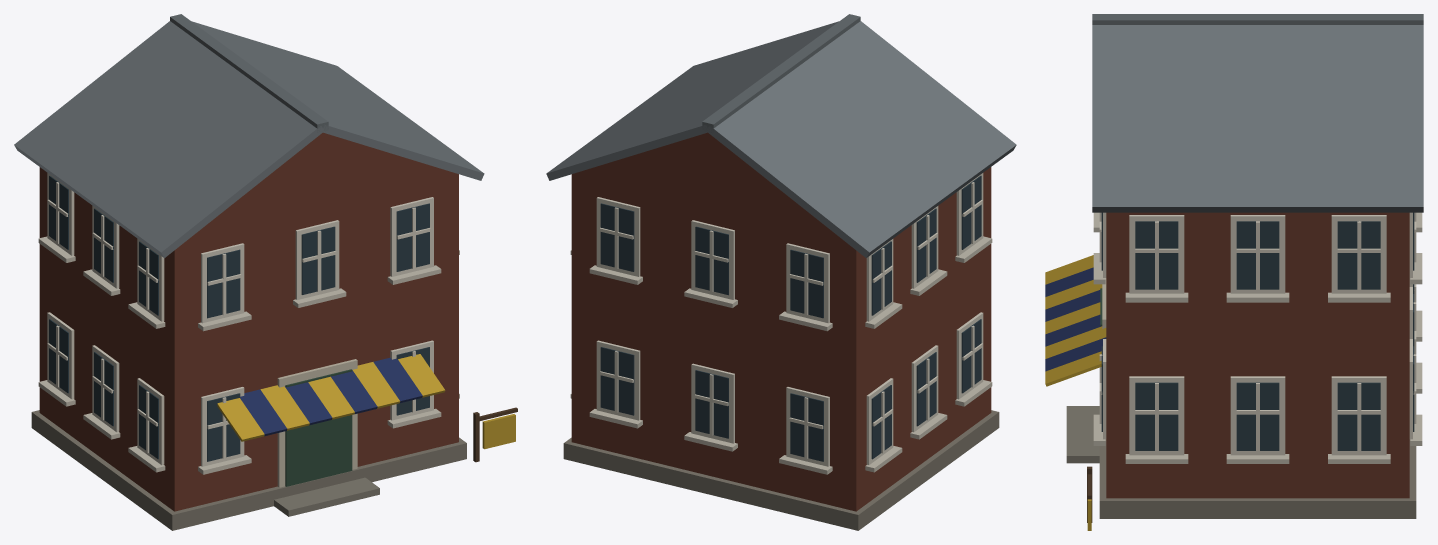
Rendered from procedural_jeweler@5.glb.
3 views of the same model, side by side, from view 1: azimuth 30°, elevation 25°; view 2: azimuth 150°, elevation 25°; view 3: azimuth 270°, elevation 25° (orthographic). The views are drawn at different scales.
Visible parts, largest first — view 1: part_0; view 2: part_0; view 3: part_0.
Boxes of the visible parts, x1=… form: part_0: x1=14, y1=14, x2=517, y2=530; part_0: x1=546, y1=14, x2=1016, y2=530; part_0: x1=1045, y1=14, x2=1423, y2=530.
Size of the model in its own units: 6.98 by 7.04 by 5.73.
